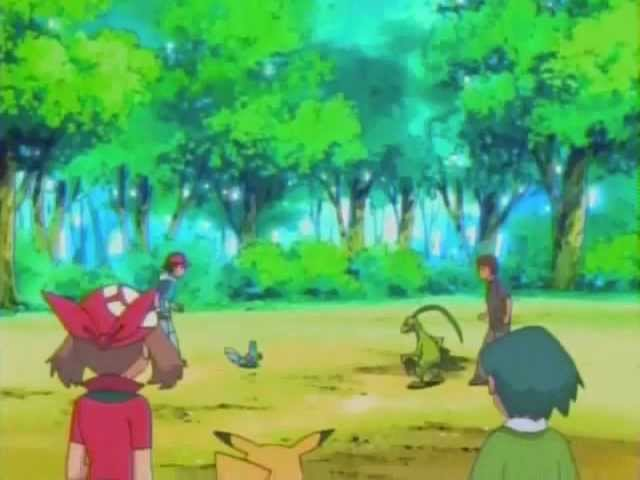mudkip: (221, 334, 269, 375)
pikachu: (208, 426, 337, 480)
